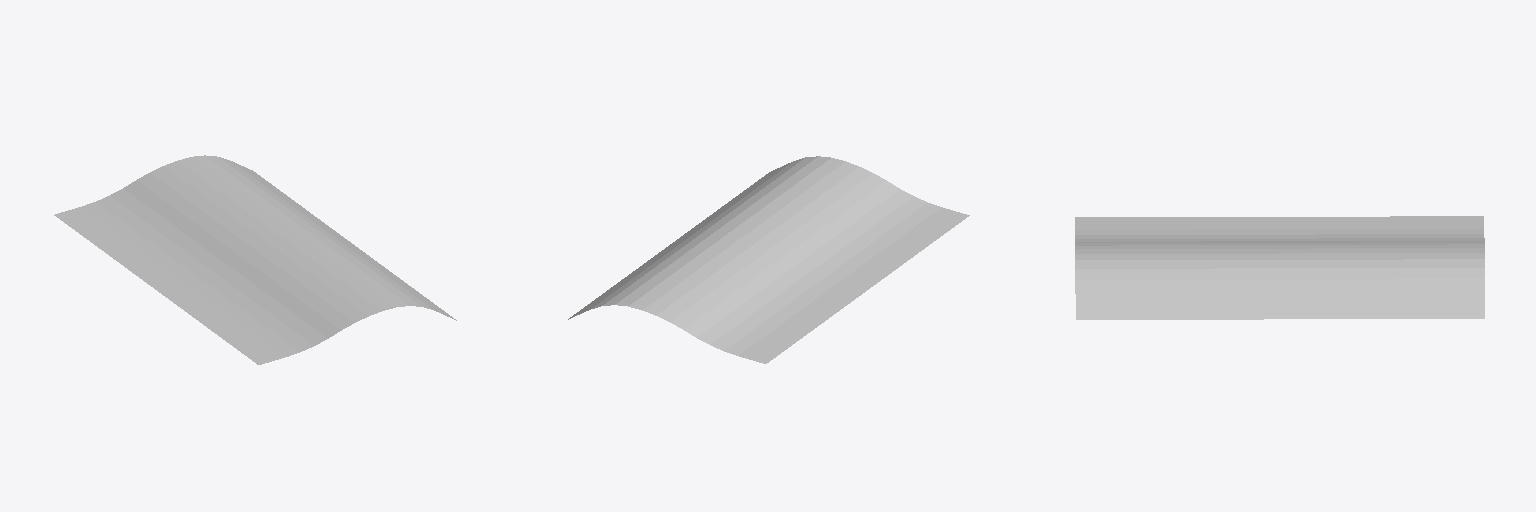
File: page0000.obj
3 renders of one model, left to right at view 1: azimuth 30°, elevation 25°; view 2: azimuth 150°, elevation 25°; view 3: azimuth 270°, elevation 25°, orthographic.
Size of the model in its own units: 283 by 40.81 by 500.